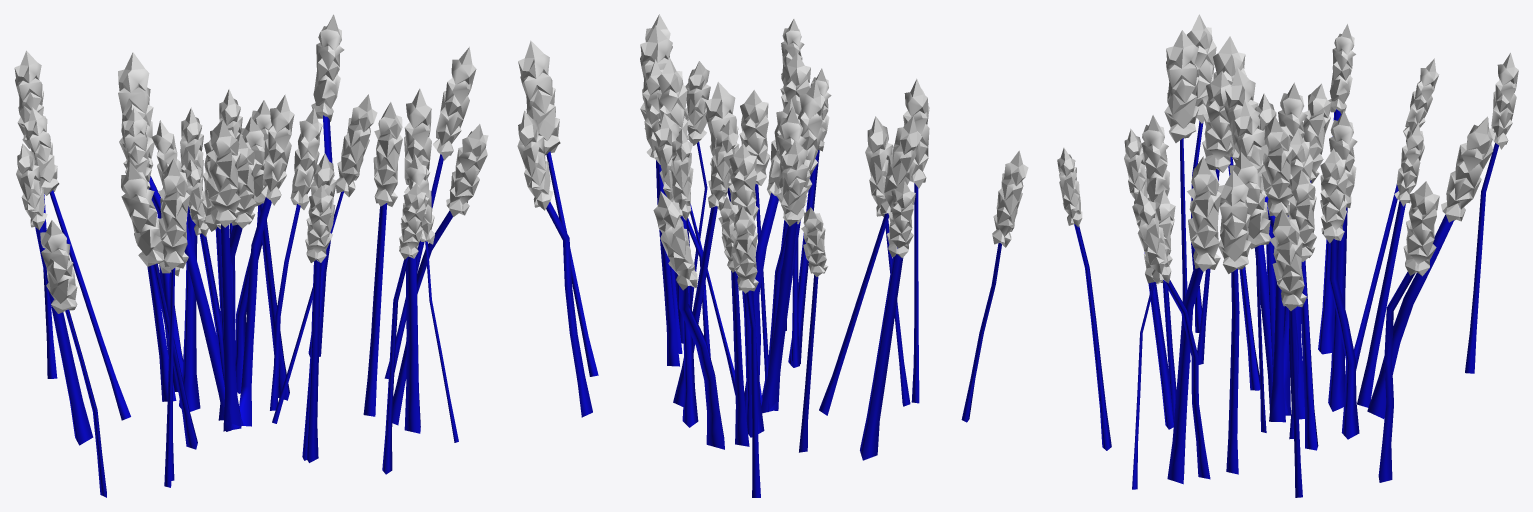
File: PatchWheat02.fbx
The picture shows the model from 3 angles, left to right: view 1: azimuth 30°, elevation 25°; view 2: azimuth 150°, elevation 25°; view 3: azimuth 270°, elevation 25°; orthographic projection. The views are drawn at different scales.
Parts seen in each view (by area): view 1: PatchWheat02_LOD0; view 2: PatchWheat02_LOD0; view 3: PatchWheat02_LOD0.
Boxes of the visible parts, left/top/right/bottom form: PatchWheat02_LOD0: left=14, top=14, right=488, bottom=497; PatchWheat02_LOD0: left=517, top=14, right=1028, bottom=497; PatchWheat02_LOD0: left=1057, top=14, right=1518, bottom=497.
Size of what is drawn, in the model's own units: 197 by 133 by 165.
